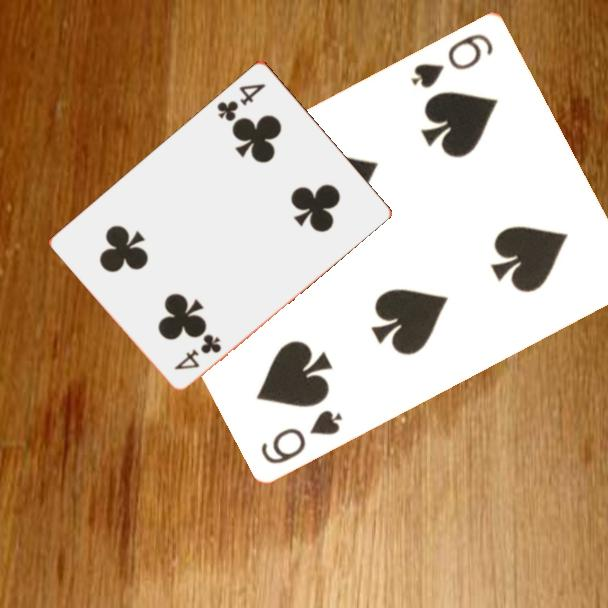c04: (213, 79, 269, 124), (170, 330, 225, 372)
s06: (407, 29, 497, 91), (257, 405, 346, 467)
